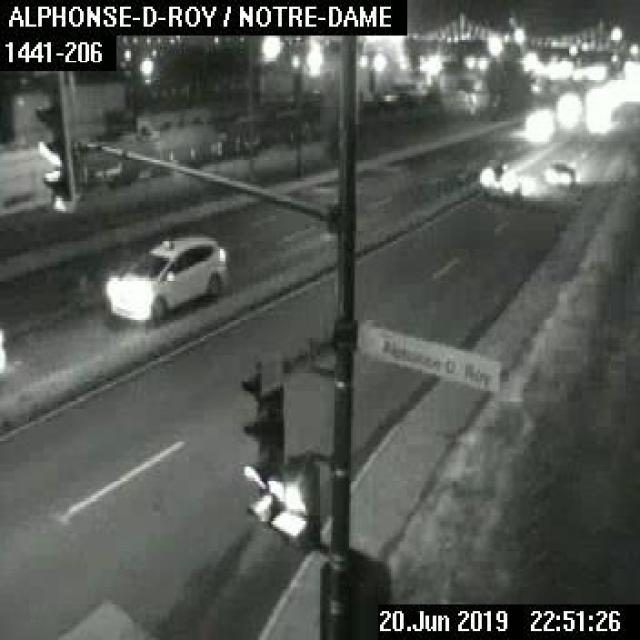vehicle: (105, 231, 228, 320), (479, 159, 521, 200), (542, 158, 573, 186)
